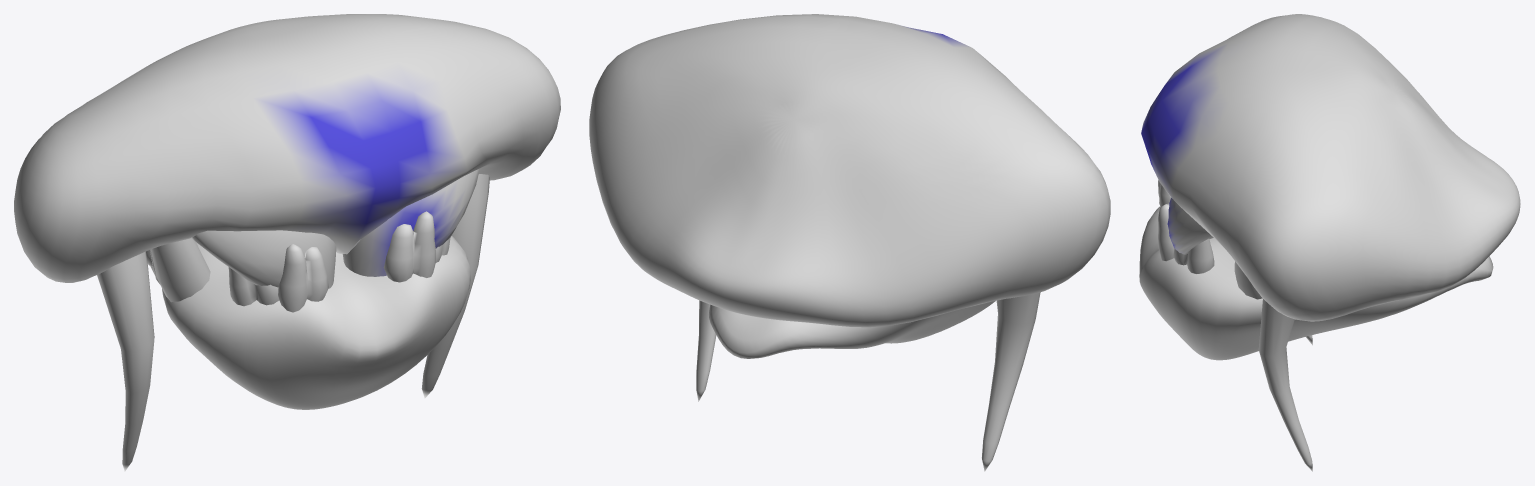
Rendered from Bat_1.fbx.
3 renders of one model, left to right at view 1: azimuth 30°, elevation 25°; view 2: azimuth 150°, elevation 25°; view 3: azimuth 270°, elevation 25°, orthographic. The views are drawn at different scales.
Visible parts, largest first — view 1: Circle.005, Circle.001; view 2: Circle.005, Circle.001; view 3: Circle.005, Circle.001.
Part boxes in pixels (x1,y1,x2,y2): Circle.005: (14, 14, 560, 471); Circle.001: (150, 211, 470, 409); Circle.005: (589, 14, 1110, 471); Circle.001: (708, 301, 995, 358); Circle.005: (1141, 14, 1520, 471); Circle.001: (1139, 180, 1493, 360).
Bounding box in the file's own units: 172 × 126 × 124.
